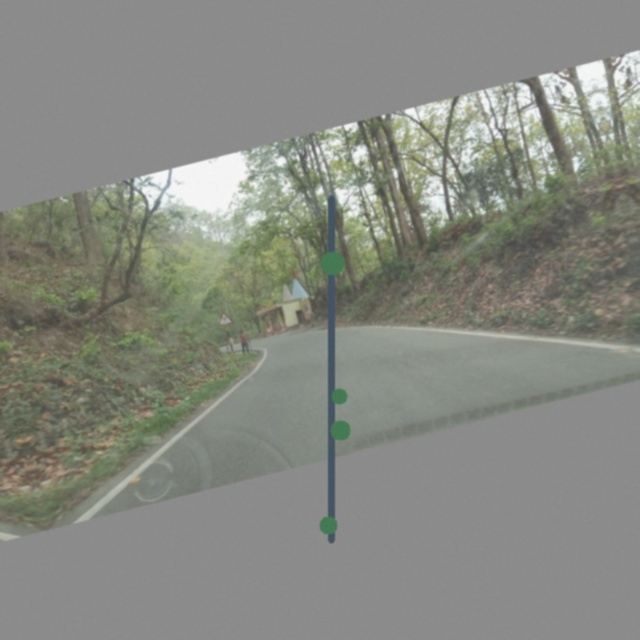Narrow_Bridge: (213, 303, 236, 328)
